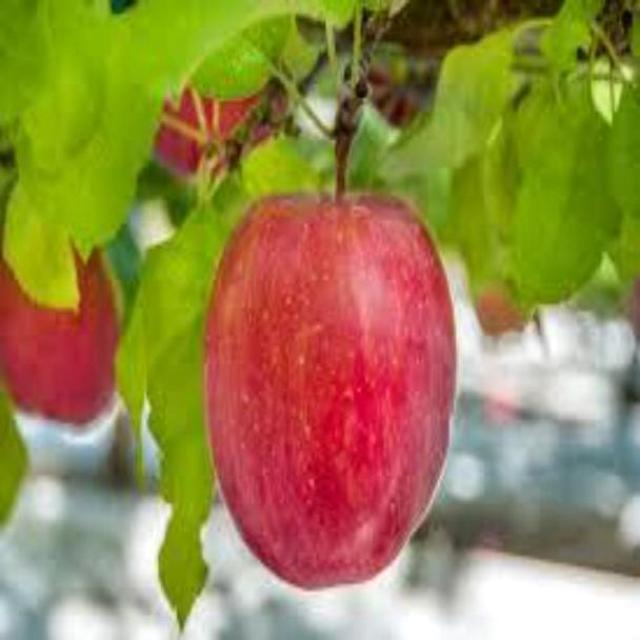HEALTHY: (201, 188, 477, 594)
